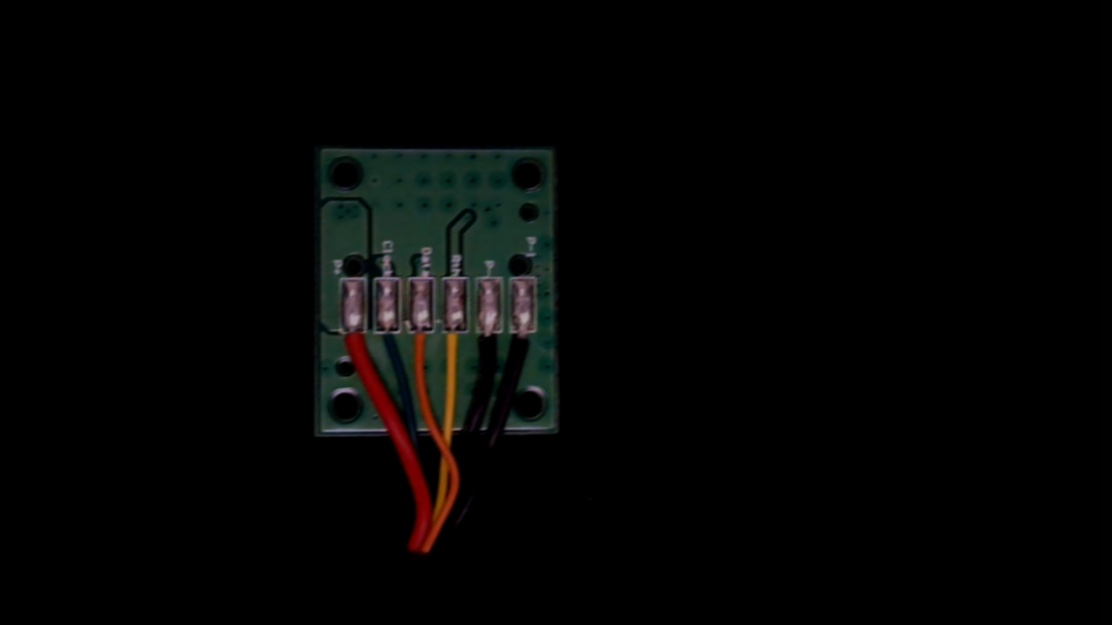Black: (474, 321, 504, 380)
Black1: (511, 319, 538, 375)
Green: (374, 316, 402, 368)
Orange: (407, 318, 435, 379)
Red: (339, 317, 369, 369)
Yellow: (438, 319, 471, 378)
